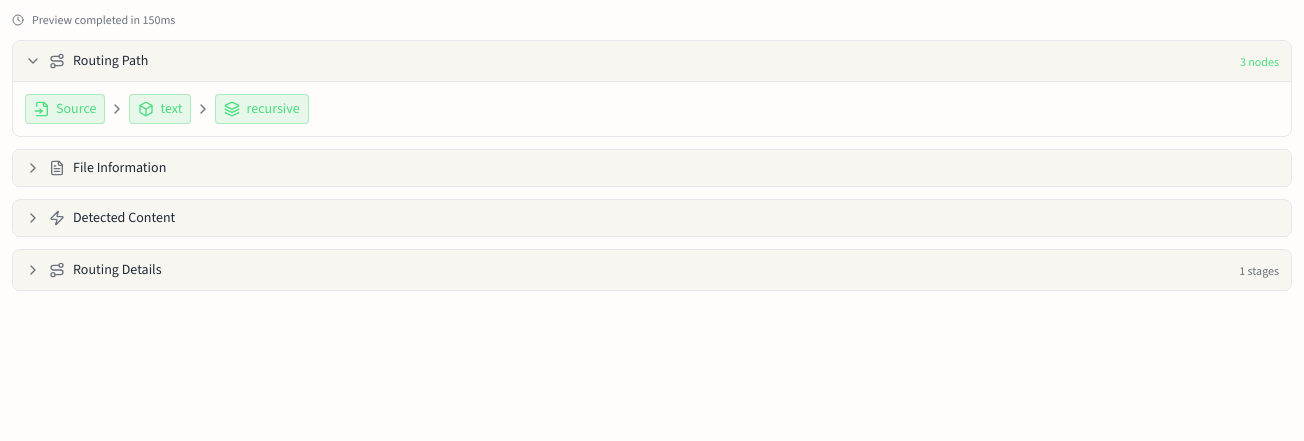
RoutePreviewResults › file information section › displays file name
The width and height of the screenshot is (1304, 441).
Click the button "File Information".
click(120, 168)  # box [13, 150, 1291, 186]
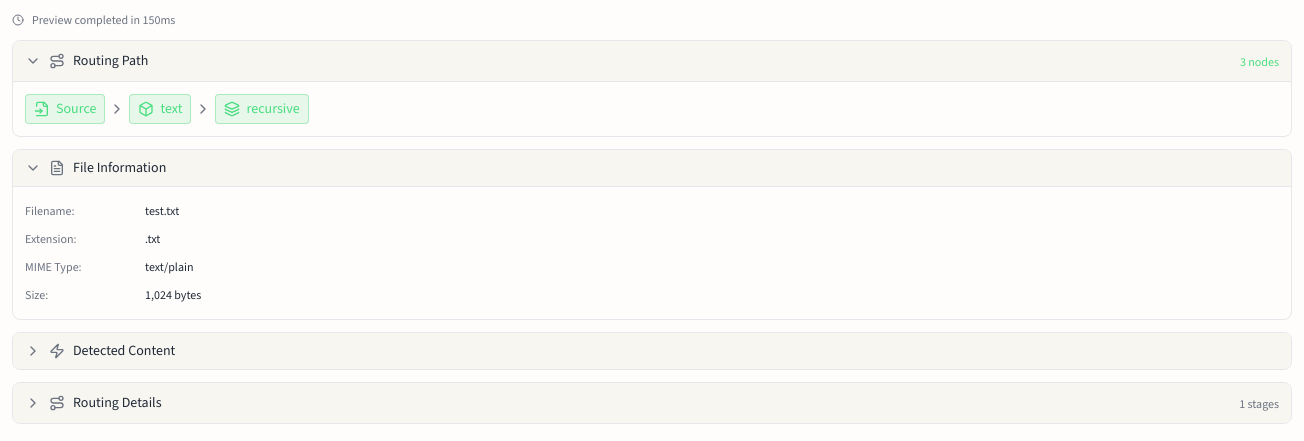
Expected: the text "test.txt" is shown, [145, 203, 179, 219]
